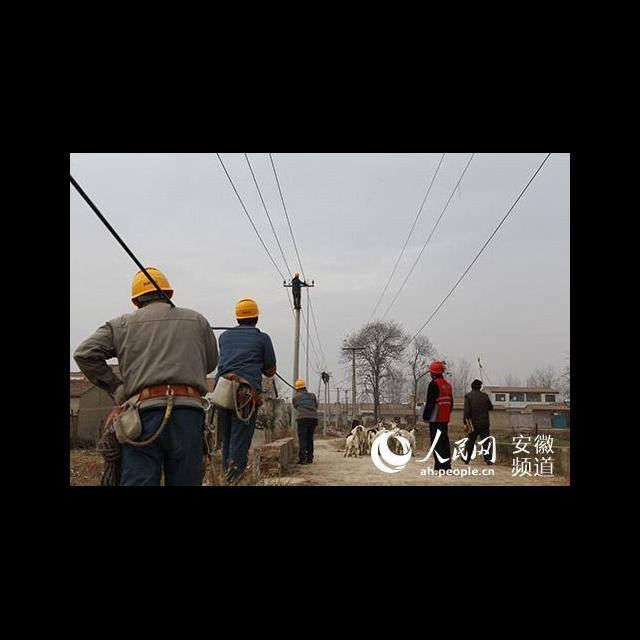Hardhat: (130, 268, 175, 305), (233, 298, 261, 319), (427, 361, 446, 374), (294, 380, 307, 390), (294, 273, 300, 278)
NO-Hardhat: (470, 379, 483, 390)
NO-Safety Vest: (117, 306, 206, 408), (221, 328, 263, 390), (467, 393, 490, 425), (294, 393, 318, 419), (293, 279, 300, 290)
Person: (73, 268, 219, 487), (215, 298, 277, 485), (422, 362, 453, 472), (462, 379, 494, 466), (292, 380, 319, 465), (291, 272, 305, 310)
Safety Vest: (432, 380, 452, 423)
